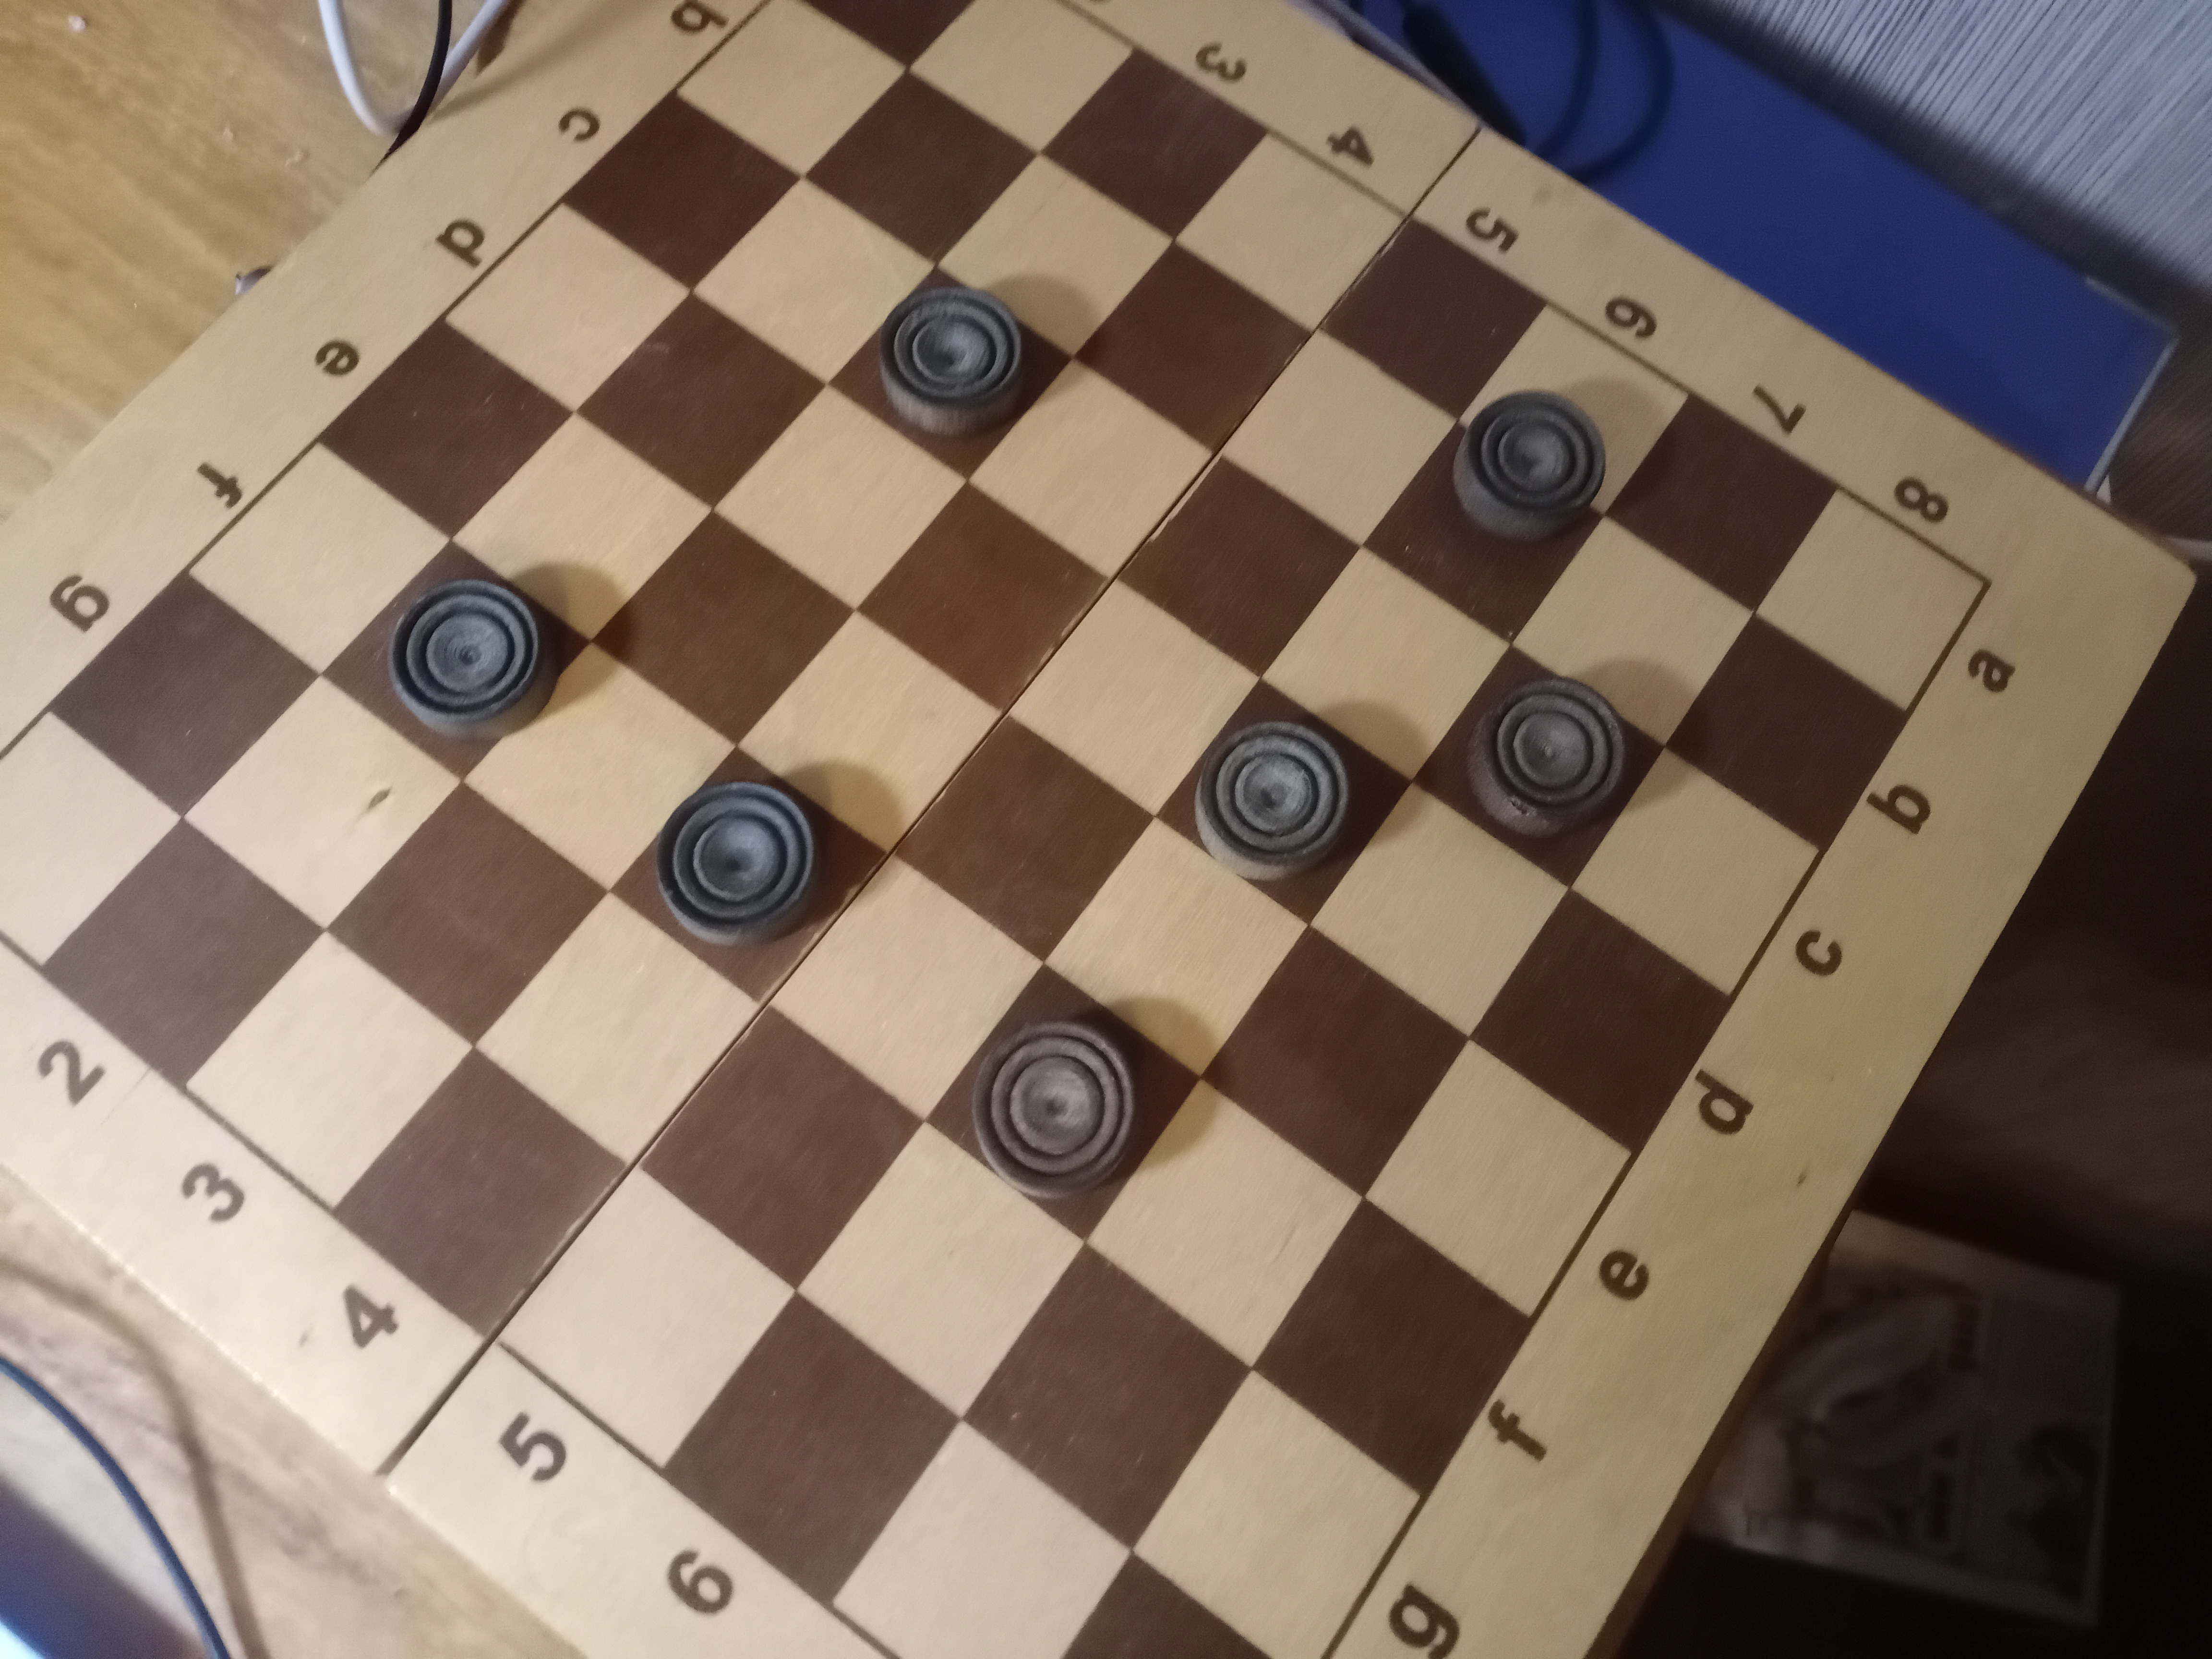Black_Draught: (923, 964, 1202, 1243), (608, 744, 892, 1004), (319, 540, 592, 781), (1153, 678, 1414, 925), (1364, 390, 1606, 647), (1414, 648, 1665, 889), (824, 265, 1076, 481)
